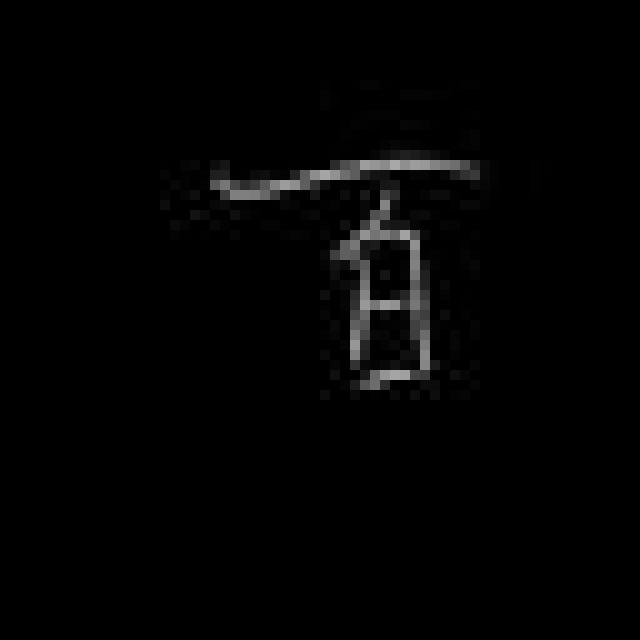100 -a hundred-: (198, 137, 486, 399)
